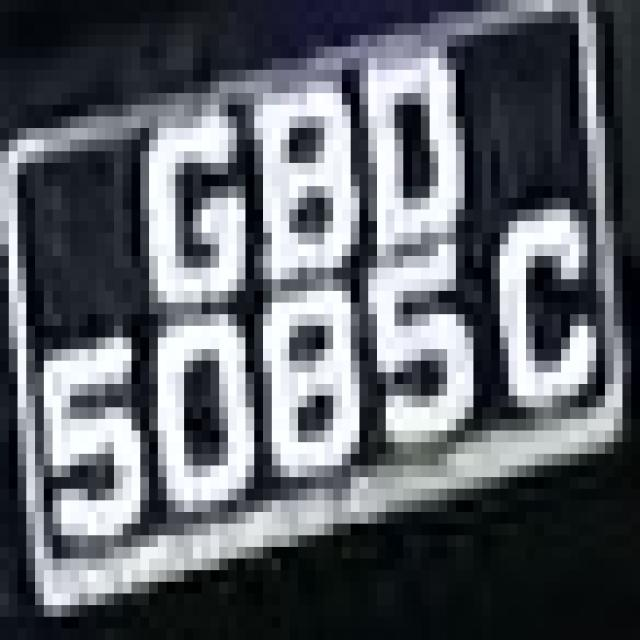0: (131, 267, 272, 558)
5: (26, 314, 176, 570), (350, 232, 464, 524)
8: (219, 244, 386, 536)
B: (228, 58, 377, 326)
C: (473, 186, 605, 454), (485, 190, 603, 412)
D: (333, 12, 474, 279)
G: (114, 105, 254, 337)
